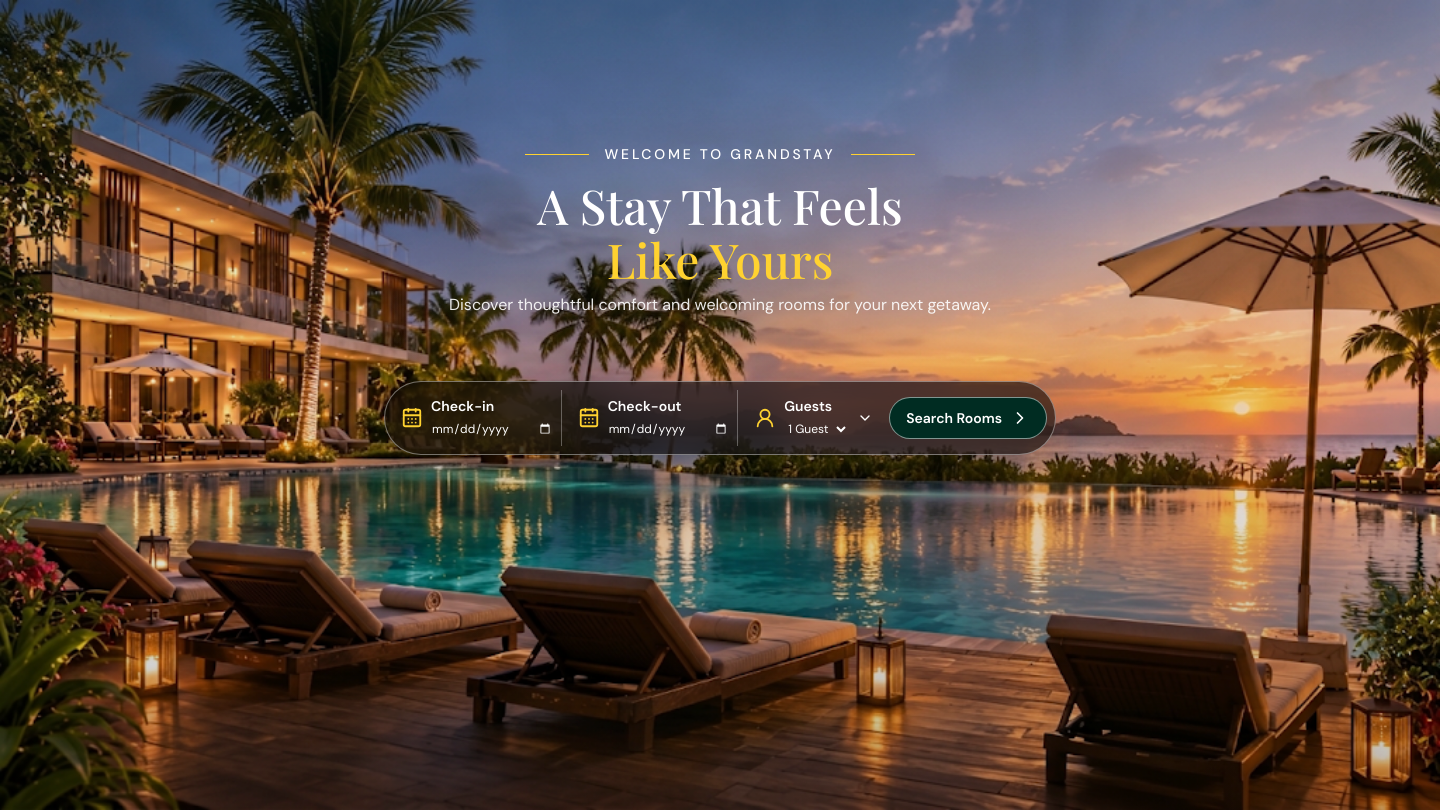
Test case: App › requires checkout to be at least one day after check-in on the home page
Type "2099-03-08" into the date field labelled "Check-in". click: point(492, 429)
box: left=431, top=421, right=553, bottom=437
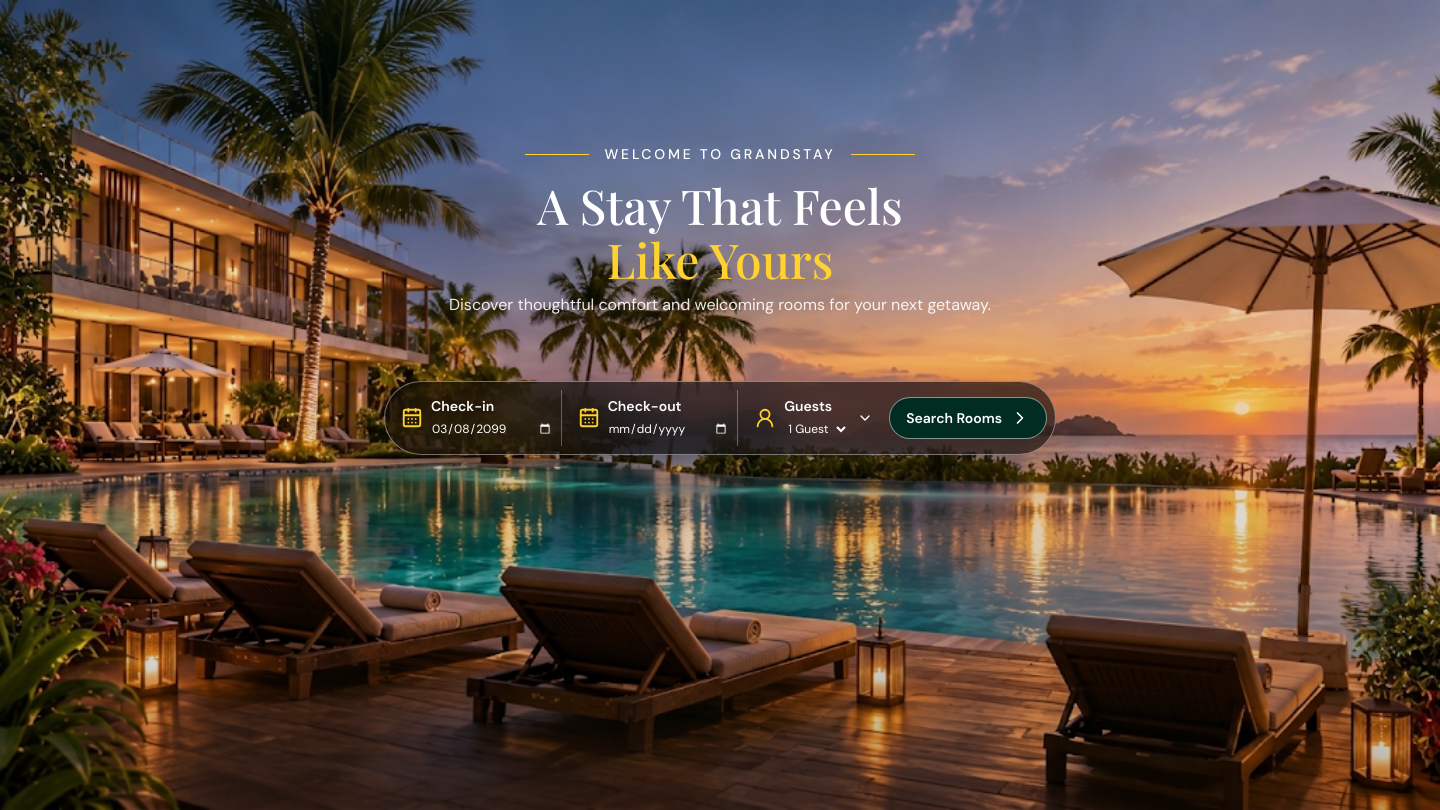
Type "2099-03-10" into the date field labelled "Check-out". click: point(668, 429)
box: left=608, top=421, right=729, bottom=437
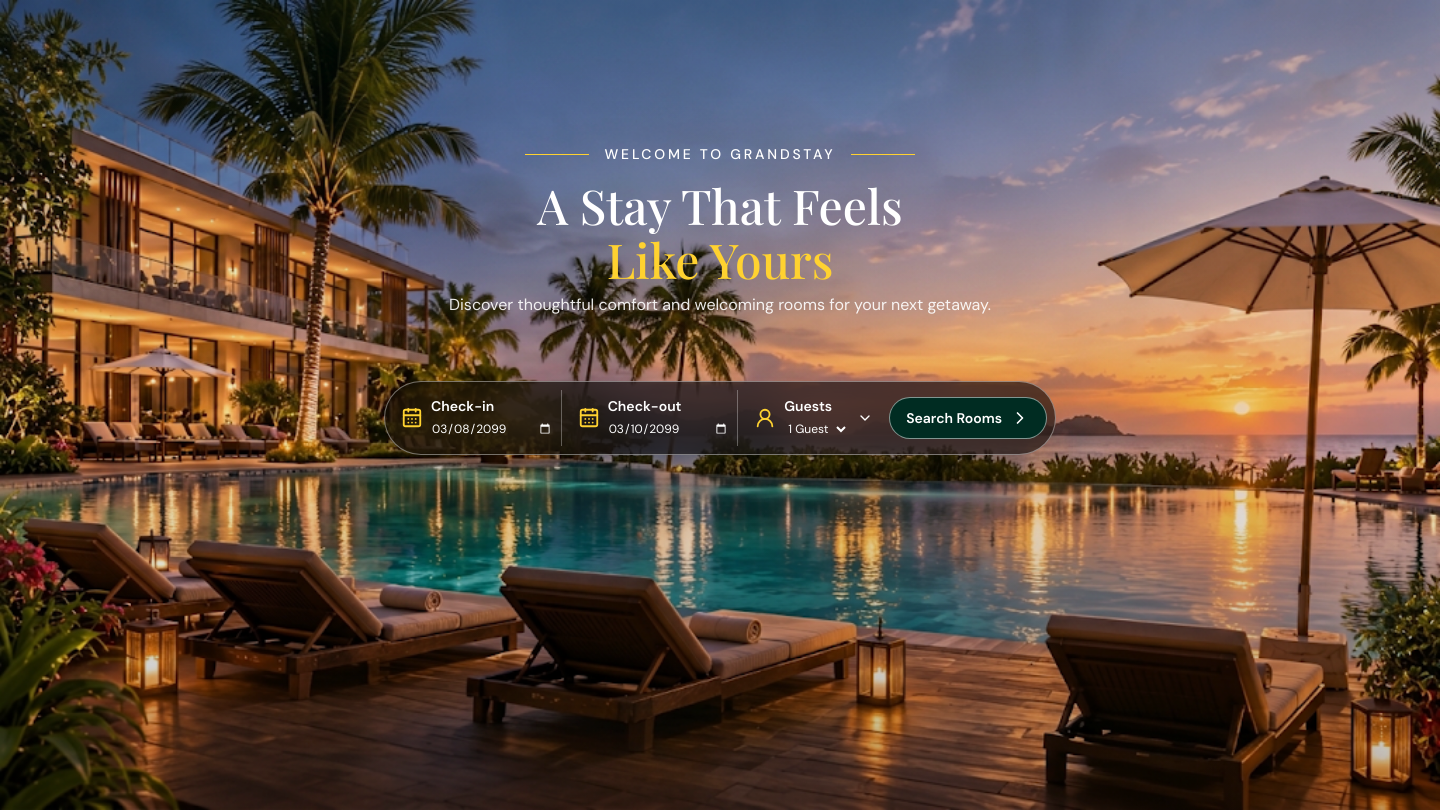
Type "2099-03-09" into the date field labelled "Check-in". click: point(492, 429)
box: left=431, top=421, right=553, bottom=437
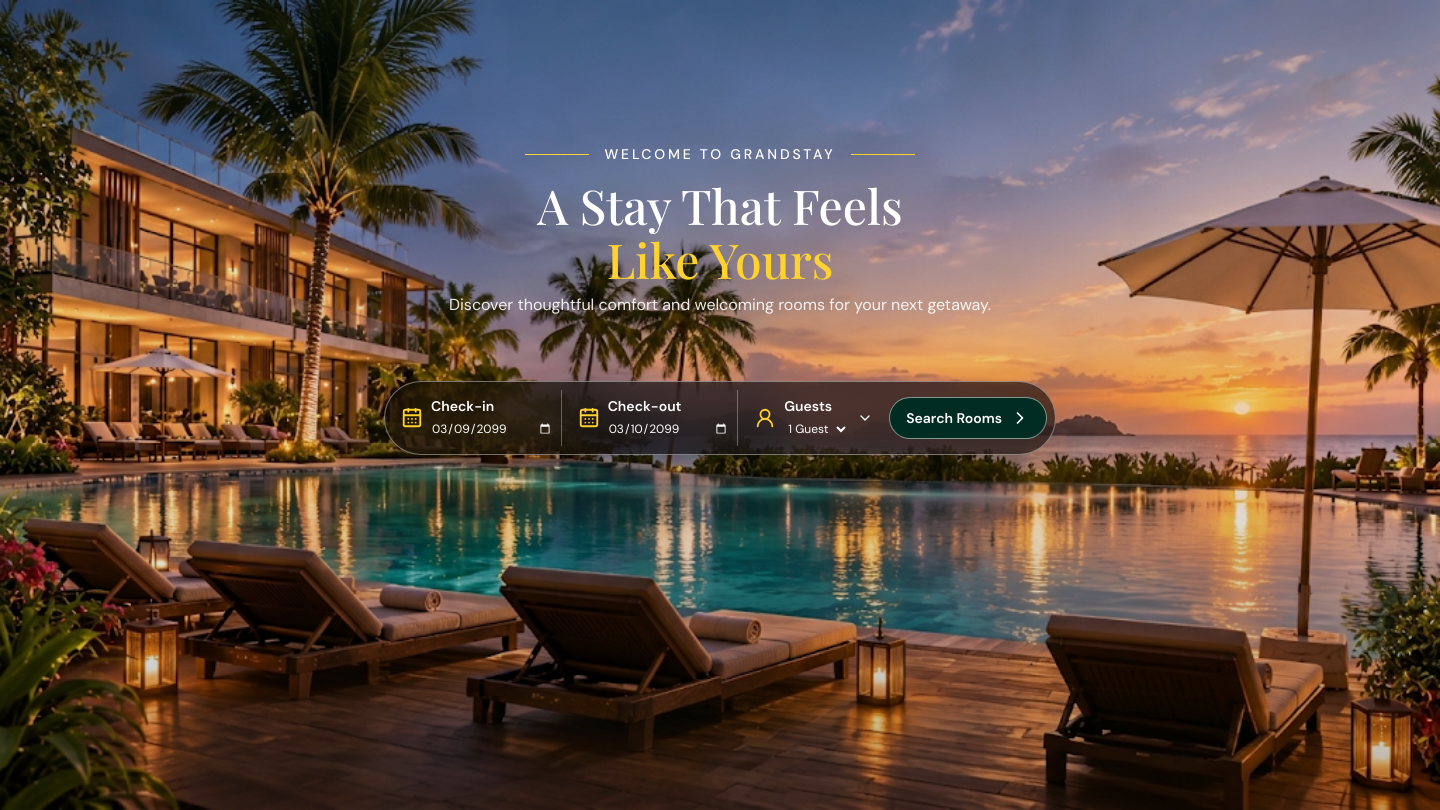
Type "2099-03-10" into the date field labelled "Check-in". click: point(492, 429)
box: left=431, top=421, right=553, bottom=437
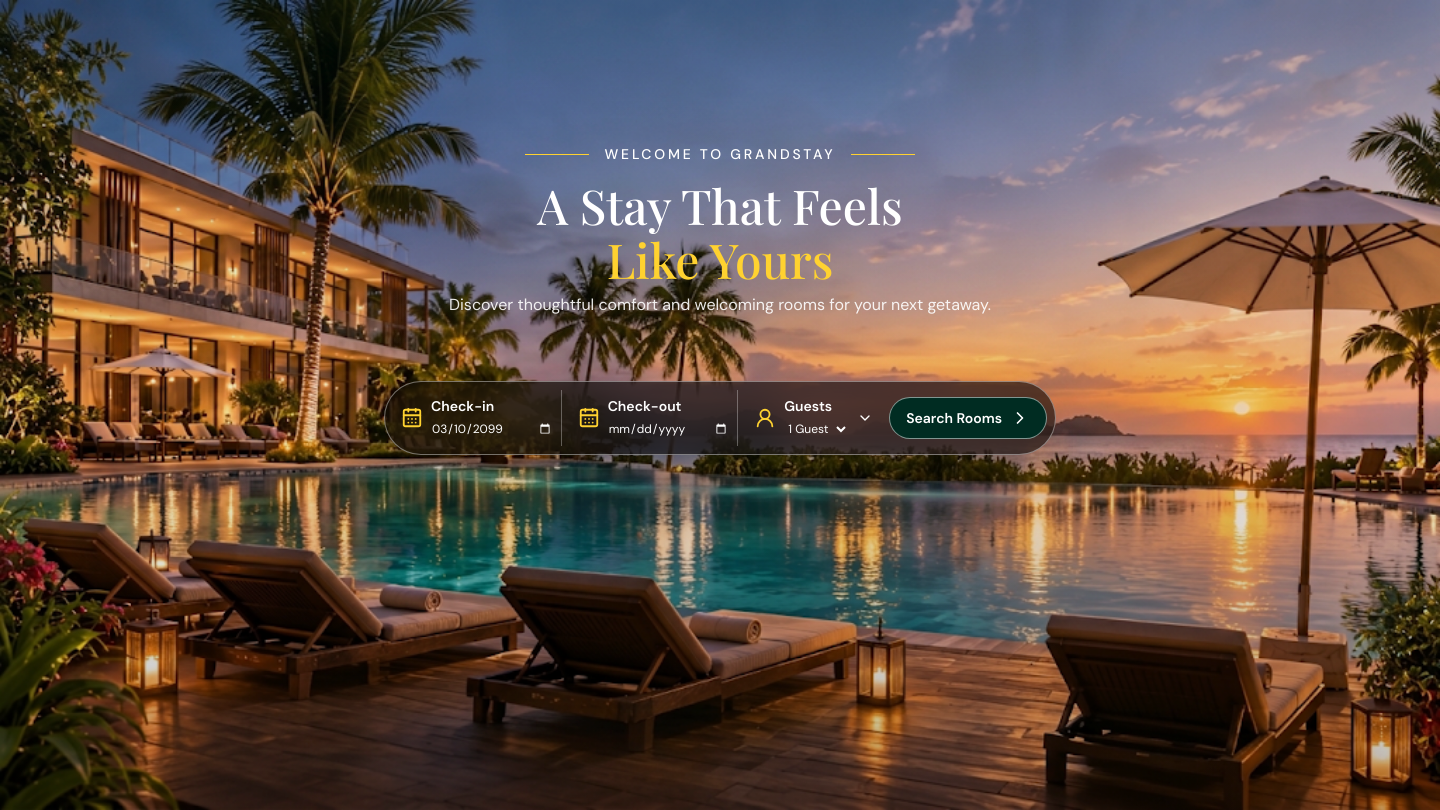
Expected: the date field labelled "Check-out" is empty, left=608, top=421, right=729, bottom=437
